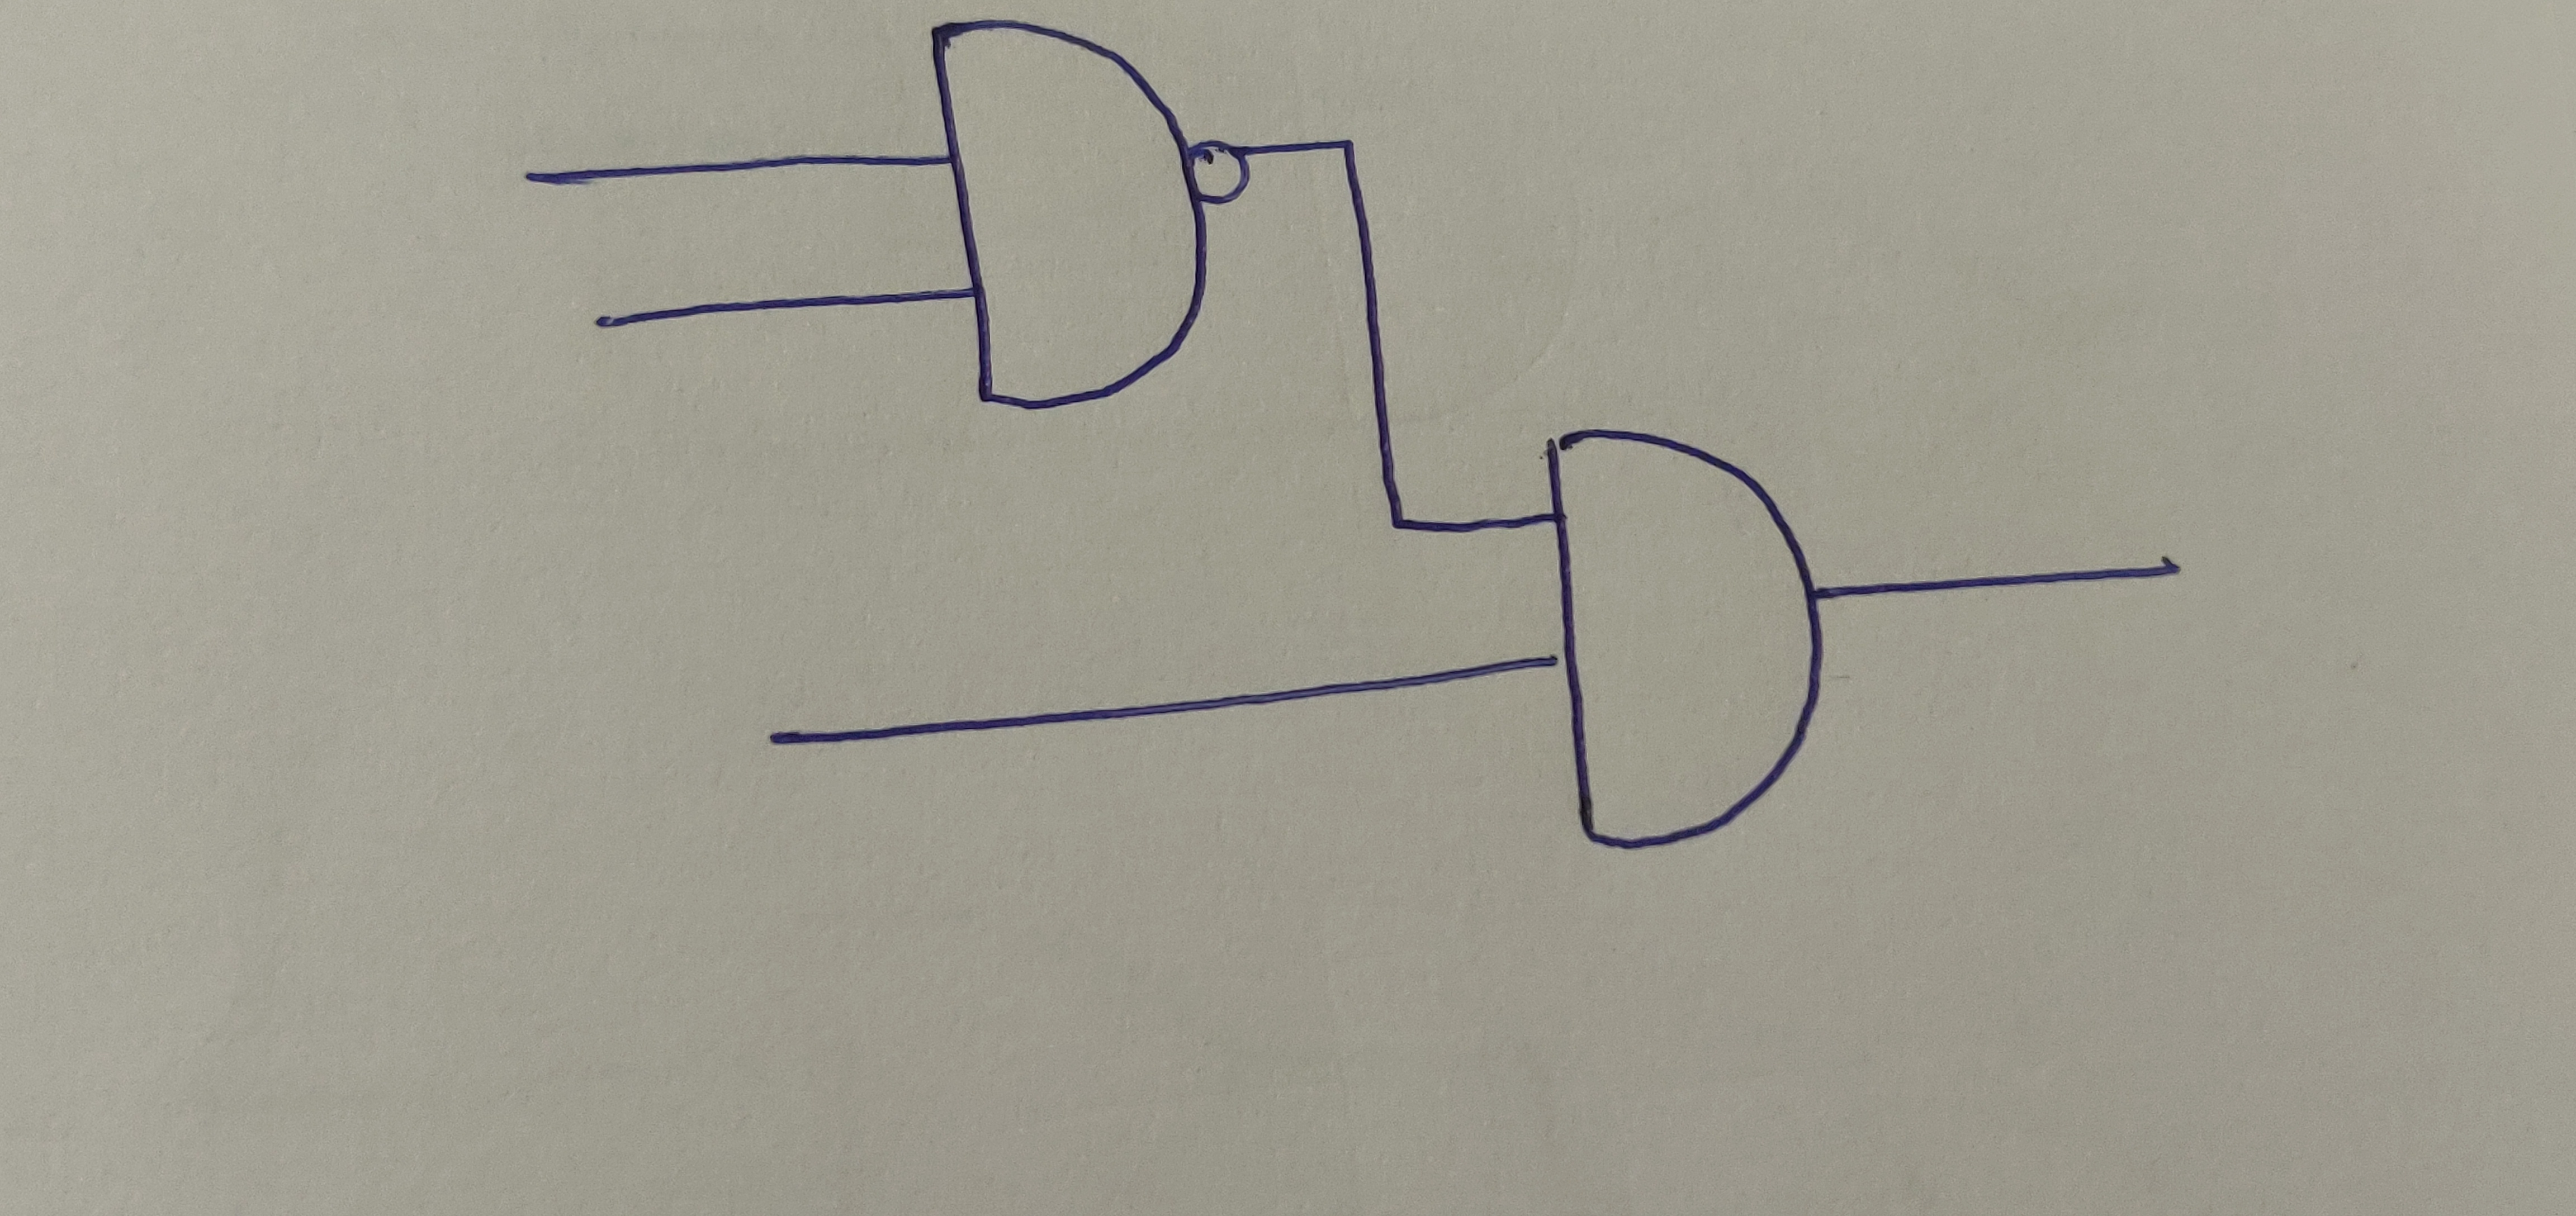and: (1544, 426, 1827, 851), (928, 16, 1206, 404)
not: (1189, 138, 1252, 205)
